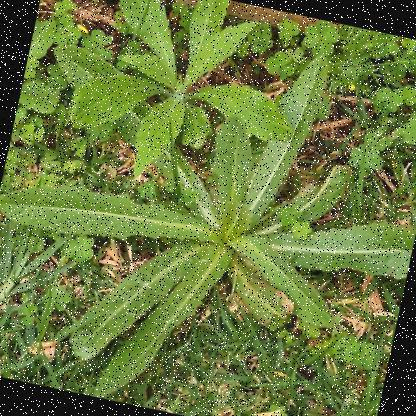Weeds: (0, 0, 415, 415), (57, 0, 316, 211)
